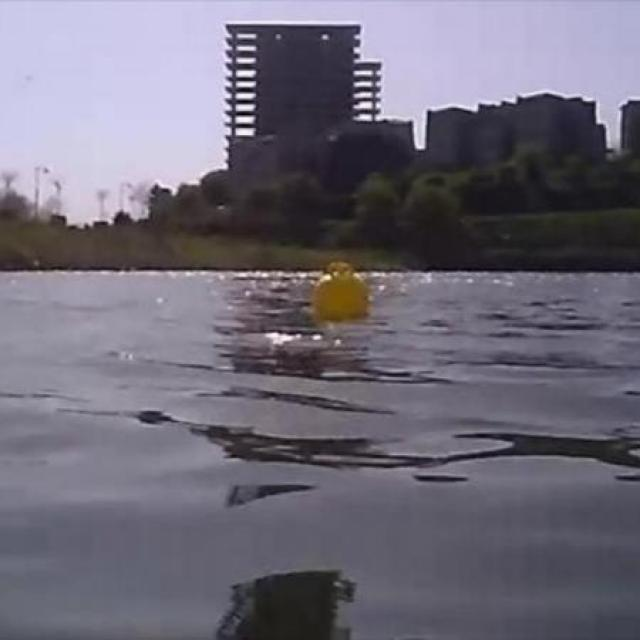buoy: (312, 259, 372, 318)
